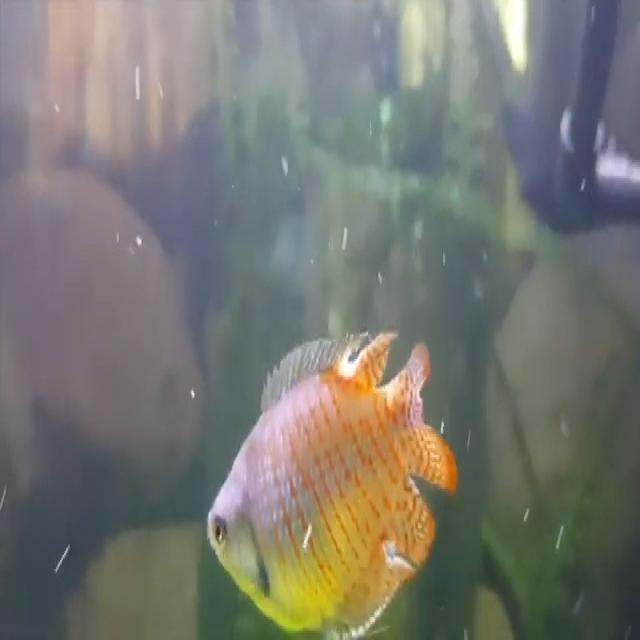fish: (204, 324, 458, 639)
